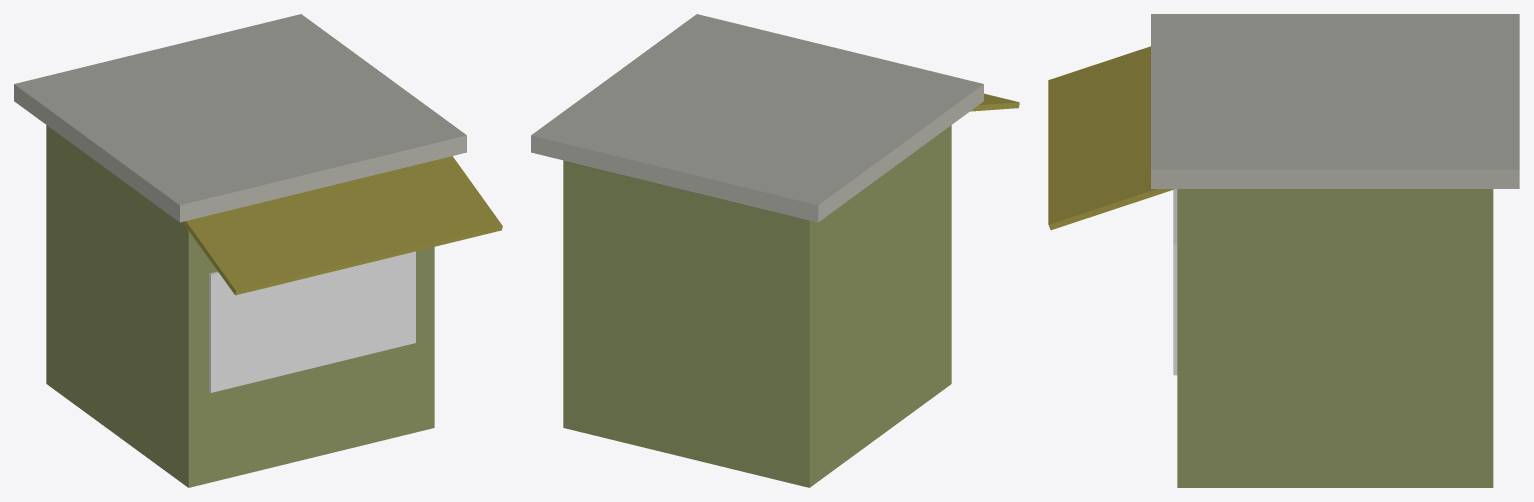
The model's file is SM_Quiosco_v1_Abierto_LOD1.fbx.
The picture shows the model from 3 angles, left to right: view 1: azimuth 30°, elevation 25°; view 2: azimuth 150°, elevation 25°; view 3: azimuth 270°, elevation 25°; orthographic projection. The views are drawn at different scales.
Parts seen in each view (by area): view 1: SM_urbano_extra_v11_LOD1; view 2: SM_urbano_extra_v11_LOD1; view 3: SM_urbano_extra_v11_LOD1.
Boxes of the visible parts, x1=… form: SM_urbano_extra_v11_LOD1: x1=14, y1=14, x2=502, y2=487; SM_urbano_extra_v11_LOD1: x1=531, y1=14, x2=1019, y2=487; SM_urbano_extra_v11_LOD1: x1=1048, y1=14, x2=1519, y2=487.
Bounding box in the file's own units: 2.8 × 2.76 × 3.58.
